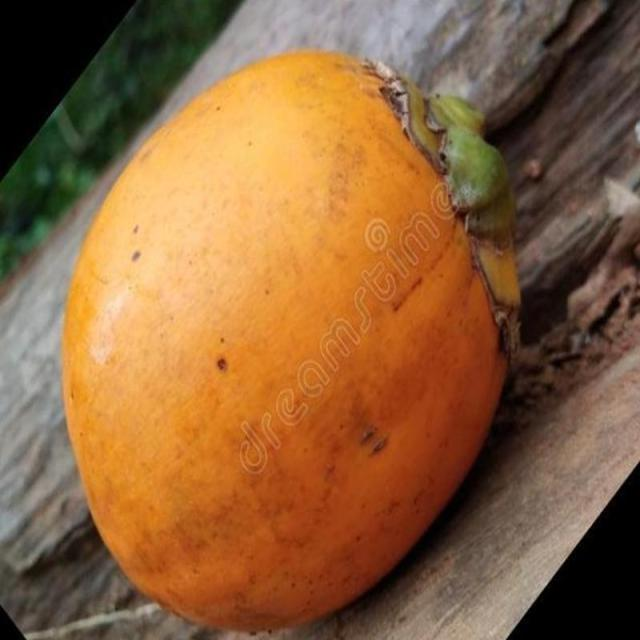good: (57, 48, 522, 639)
